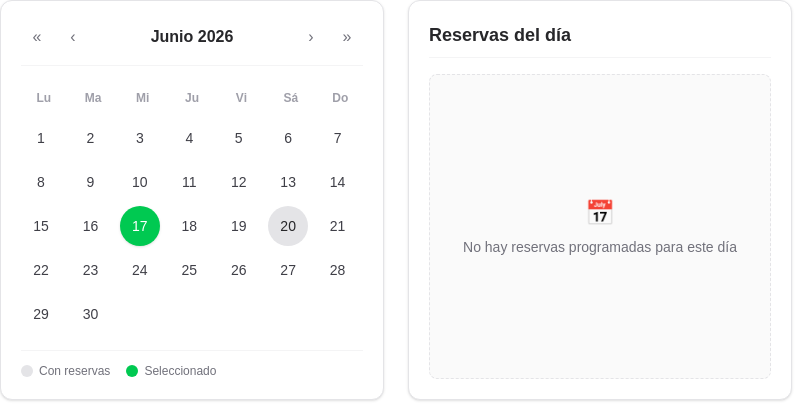
Test case: CalendarioAdmin - Criterios del Calendario › Escenario 2: Navegación cambia de mes al instante y actualiza círculos de ocupación del nuevo mes
Expected: the text "junio 2026" is shown, [151, 25, 233, 49]
Hacemos clic en el botón de mes siguiente
Step 1. Click the button named "Mes siguiente" → (311, 37), box [295, 21, 327, 53]
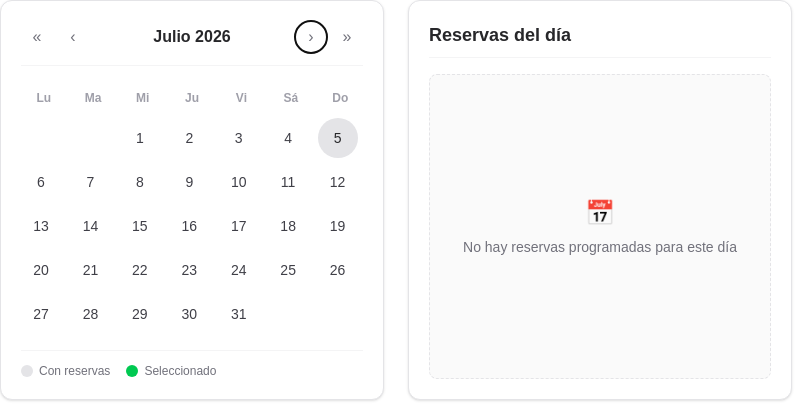
Result: the text "julio 2026" is shown at [153, 25, 231, 49]
